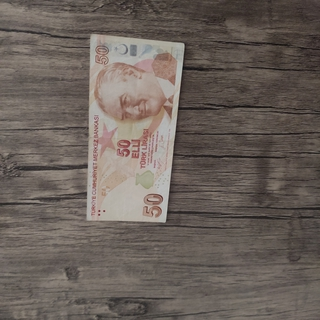50TLFront: (86, 33, 185, 222)
